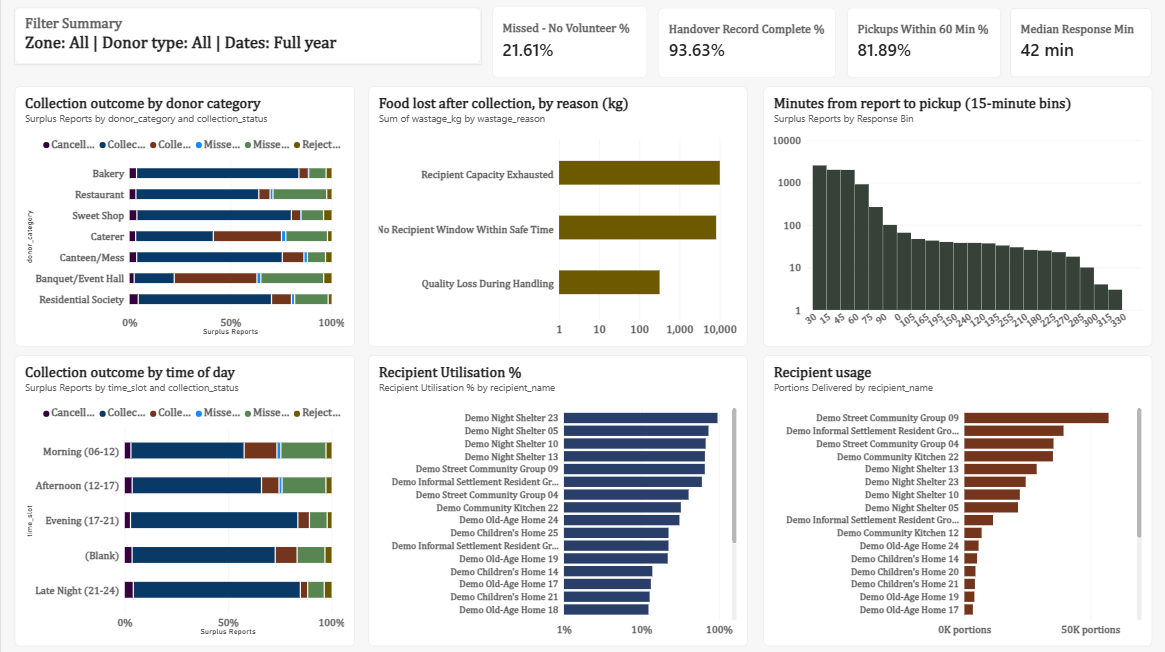

What the dashboard file says about the page in this screenshot:
{"tool":"powerbi","page":{"name":"Collection & Distribution","canvas":[1920,1080],"ordinal":4},"visuals":[{"type":"cardVisual","fields":{"Data":["_Measures.Filter Summary"]},"box":[22.6,14.4,767.8,92.6],"z":3000},{"type":"hundredPercentStackedBarChart","title":"Collection outcome by donor category","fields":{"Category":["dim_donor.donor_category"],"Series":["fact_surplus.collection_status"],"Y":["_Measures.Surplus Reports"]},"box":[22.6,144.1,559.9,428.1],"z":4000},{"type":"hundredPercentStackedBarChart","title":"Collection outcome by time of day","fields":{"Category":["dim_time_slot.time_slot"],"Series":["fact_surplus.collection_status"],"Y":["_Measures.Surplus Reports"]},"box":[22.6,586.6,559.9,479.6],"z":5000},{"type":"clusteredColumnChart","title":"Minutes from report to pickup (15-minute bins)","fields":{"Category":["fact_surplus.Response Bin"],"Y":["_Measures.Surplus Reports"]},"box":[1255.6,144.1,640.1,428.1],"z":6000},{"type":"clusteredBarChart","title":"Recipient usage","fields":{"Category":["dim_recipient.recipient_name"],"Y":["_Measures.Portions Delivered"]},"box":[1255.6,586.6,640.1,479.6],"z":7000},{"type":"clusteredBarChart","title":"Recipient Utilisation %","fields":{"Category":["dim_recipient.recipient_name"],"Y":["_Measures.Recipient Utilisation %"]},"box":[605.1,586.6,623.7,479.6],"z":8000},{"type":"clusteredBarChart","title":"Food lost after collection, by reason (kg)","fields":{"Category":["fact_distribution.wastage_reason"],"Y":["Sum(fact_distribution.wastage_kg)"]},"box":[605.1,144.1,623.7,428.1],"z":9000},{"type":"cardVisual","fields":{"Data":["_Measures.Median Response Min"]},"box":[1661.1,14.4,234.6,115.3],"z":10000},{"type":"cardVisual","fields":{"Data":["_Measures.Pickups Within 60 Min %"]},"box":[1393.5,14.4,253.2,115.3],"z":11000},{"type":"cardVisual","fields":{"Data":["_Measures.Handover Record Complete %"]},"box":[1082.7,14.4,292.3,115.3],"z":12000},{"type":"cardVisual","fields":{"Data":["_Measures.Missed - No Volunteer %"]},"box":[808.9,12.3,255.2,117.3],"z":13000}]}

Visuals, with their boxes in screenshot pixels (x1, y1, x2, y2), scaled from the page's 1920x1080 canvas onto the 1165x652 screenshot:
cardVisual - _Measures.Filter Summary: box=[14, 9, 480, 65]
"Collection outcome by donor category" hundredPercentStackedBarChart: box=[14, 87, 353, 345]
"Collection outcome by time of day" hundredPercentStackedBarChart: box=[14, 354, 353, 644]
"Minutes from report to pickup (15-minute bins)" clusteredColumnChart: box=[762, 87, 1150, 345]
"Recipient usage" clusteredBarChart: box=[762, 354, 1150, 644]
"Recipient Utilisation %" clusteredBarChart: box=[367, 354, 746, 644]
"Food lost after collection, by reason (kg)" clusteredBarChart: box=[367, 87, 746, 345]
cardVisual - _Measures.Median Response Min: box=[1008, 9, 1150, 78]
cardVisual - _Measures.Pickups Within 60 Min %: box=[846, 9, 999, 78]
cardVisual - _Measures.Handover Record Complete %: box=[657, 9, 834, 78]
cardVisual - _Measures.Missed - No Volunteer %: box=[491, 7, 646, 78]
